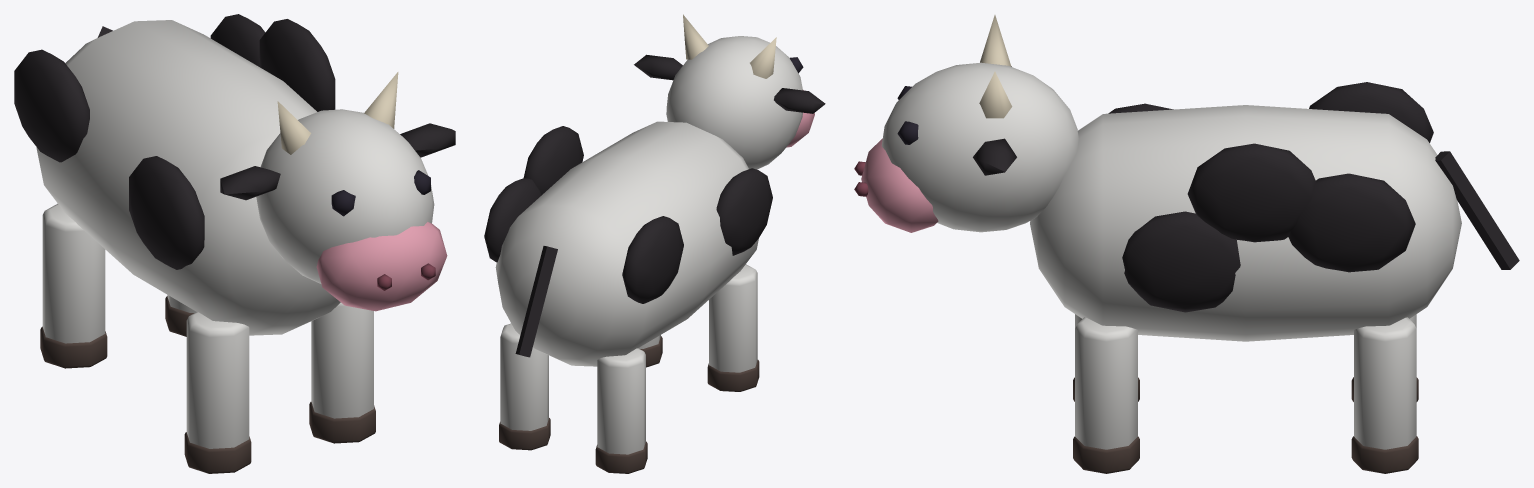
The model's file is cow.fbx.
3 views of the same model, side by side, from view 1: azimuth 30°, elevation 25°; view 2: azimuth 150°, elevation 25°; view 3: azimuth 270°, elevation 25° (orthographic). The views are drawn at different scales.
Parts seen in each view (by area): view 1: Body, Head; view 2: Body, Head; view 3: Body, Head.
Boxes of the visible parts, <box> form: Body: <box>14,14,375,473</box>; Head: <box>220,72,455,311</box>; Body: <box>484,121,772,473</box>; Head: <box>634,14,825,169</box>; Body: <box>1030,82,1519,473</box>; Head: <box>854,15,1079,232</box>.
Size of the model in its own units: 0.3802 by 0.6163 by 0.955.
